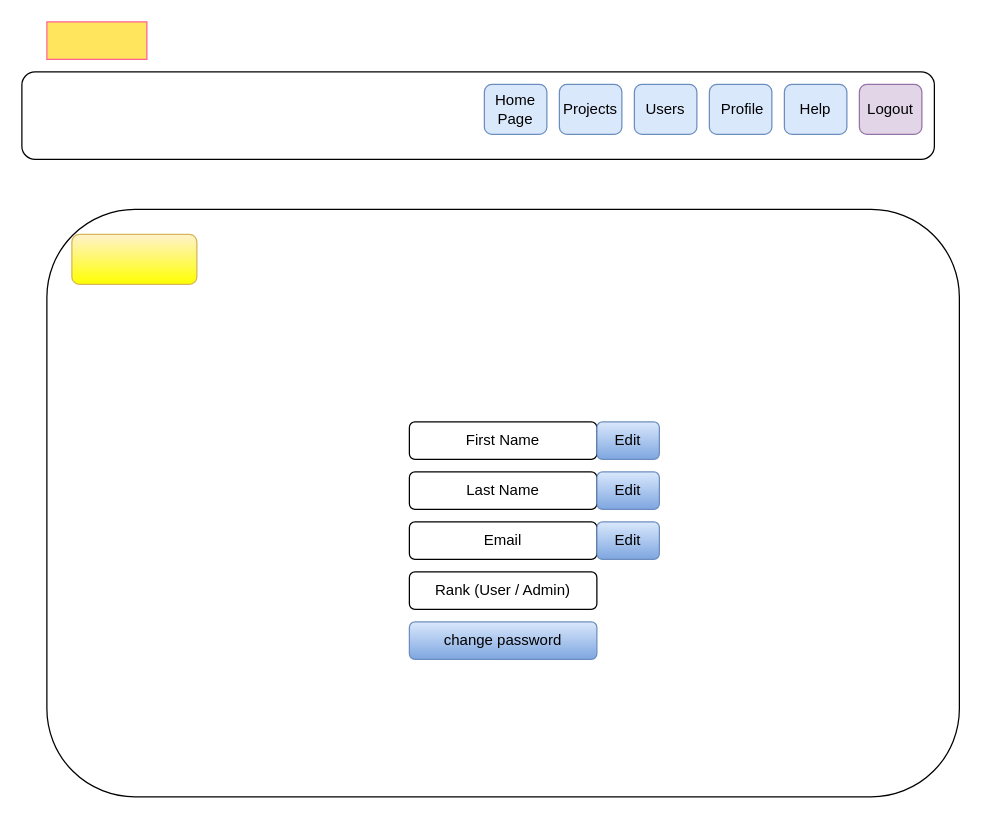
The diagram is 981 pixels wide and 829 high, and some of its shapes have lost their labels. The box of each missing label's shape, as (x1, y1, x2, y2) in pixels:
Profile page: (46, 21, 147, 59)
User personal info: (71, 233, 197, 284)
